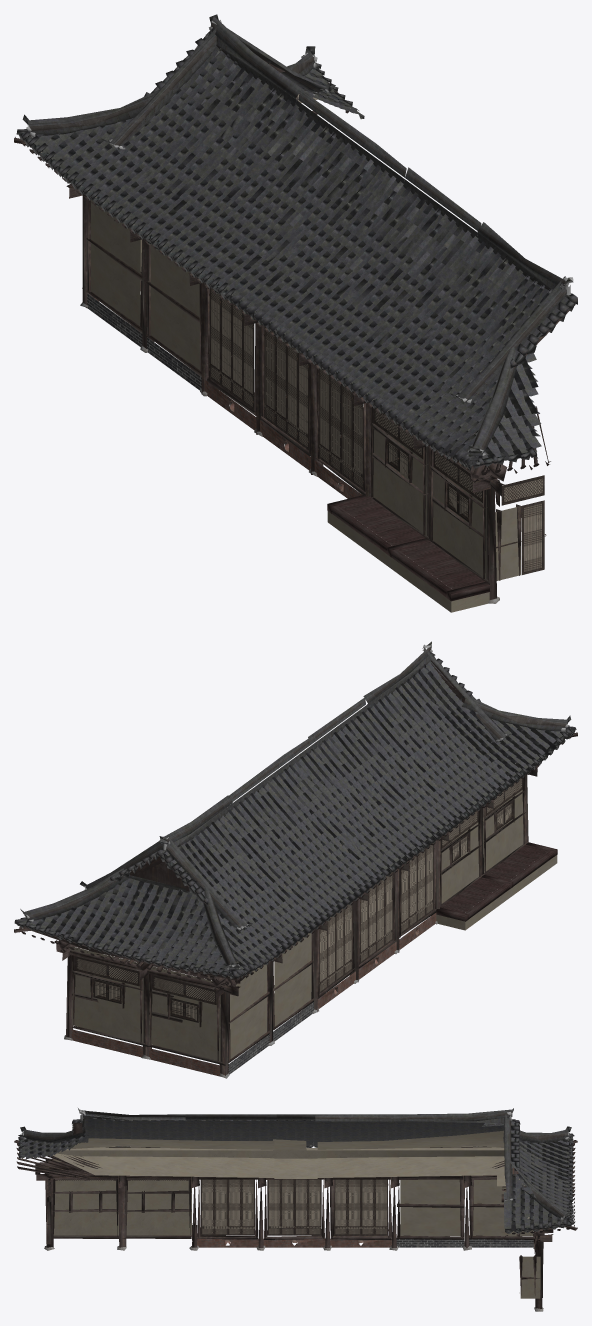
Rendered from TruongHocLow3.fbx.
3 views of the same model, one above another, from view 1: azimuth 30°, elevation 25°; view 2: azimuth 150°, elevation 25°; view 3: azimuth 270°, elevation 25° (orthographic). The views are drawn at different scales.
Parts seen in each view (by area): view 1: Folk_Education_Hall; view 2: Folk_Education_Hall; view 3: Folk_Education_Hall.
Boxes of the visible parts, box(x1,y1,x2,y2) form: Folk_Education_Hall: box(14, 14, 577, 612); Folk_Education_Hall: box(14, 641, 577, 1078); Folk_Education_Hall: box(14, 1108, 577, 1311).
Bounding box in the file's own units: 999 × 892 × 2660.
